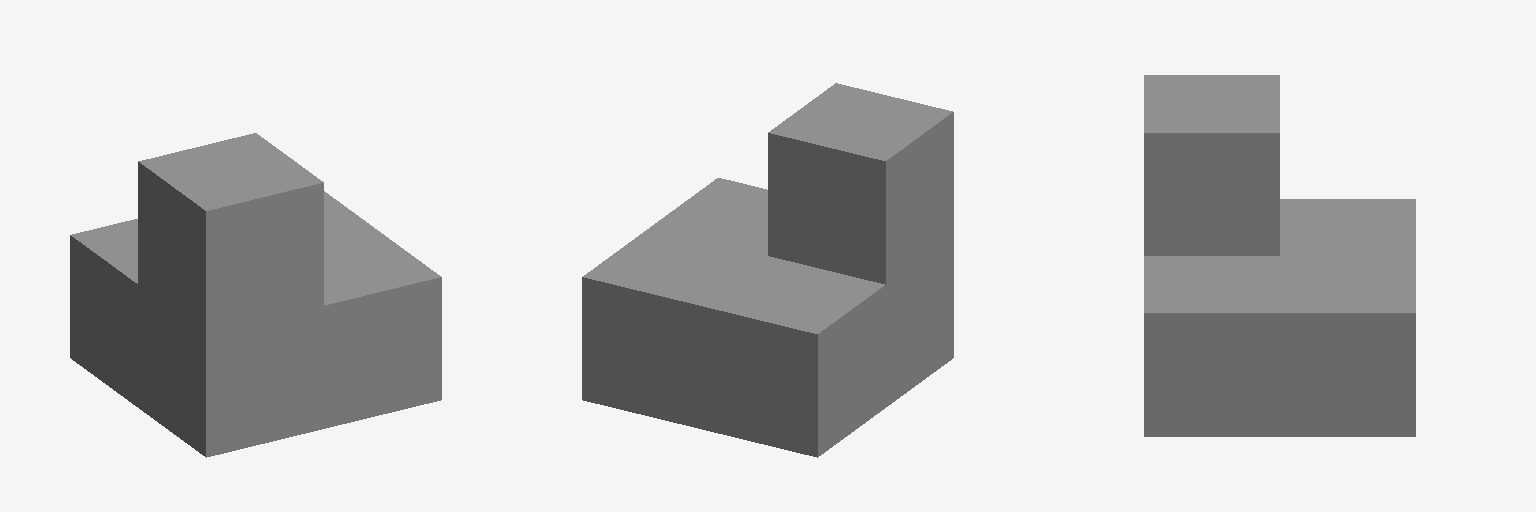
File: stairs_corner.obj
3 views of the same model, side by side, from view 1: azimuth 30°, elevation 25°; view 2: azimuth 150°, elevation 25°; view 3: azimuth 270°, elevation 25° (orthographic).
Parts seen in each view (by area): view 1: Cube; view 2: Cube; view 3: Cube.
Boxes of the visible parts, box(x1,y1,x2,y2) form: Cube: box(70, 133, 441, 457); Cube: box(582, 83, 953, 457); Cube: box(1144, 75, 1415, 436).
Size of the model in its own units: 2 by 2 by 2.